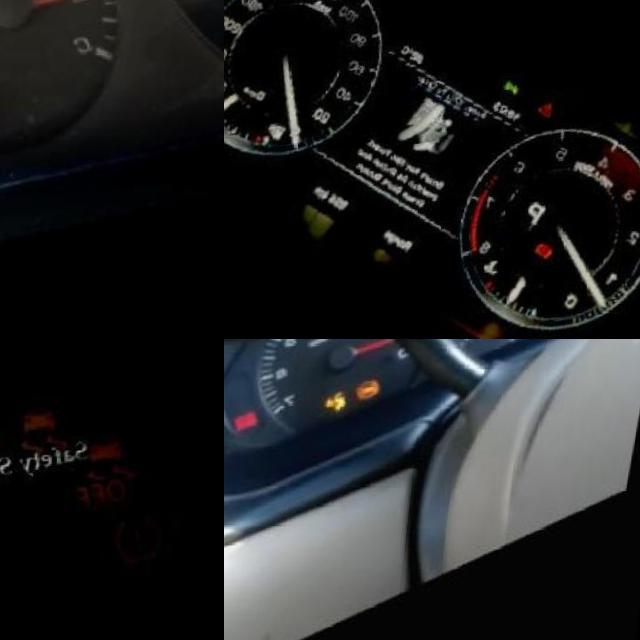Engine cooling system: (496, 251, 525, 279)
Low fuel level: (277, 123, 304, 149)
